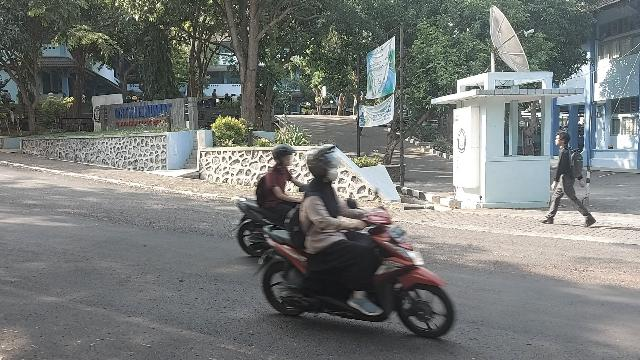helm: (308, 146, 340, 183), (274, 146, 297, 167)
motor: (255, 190, 455, 341)
